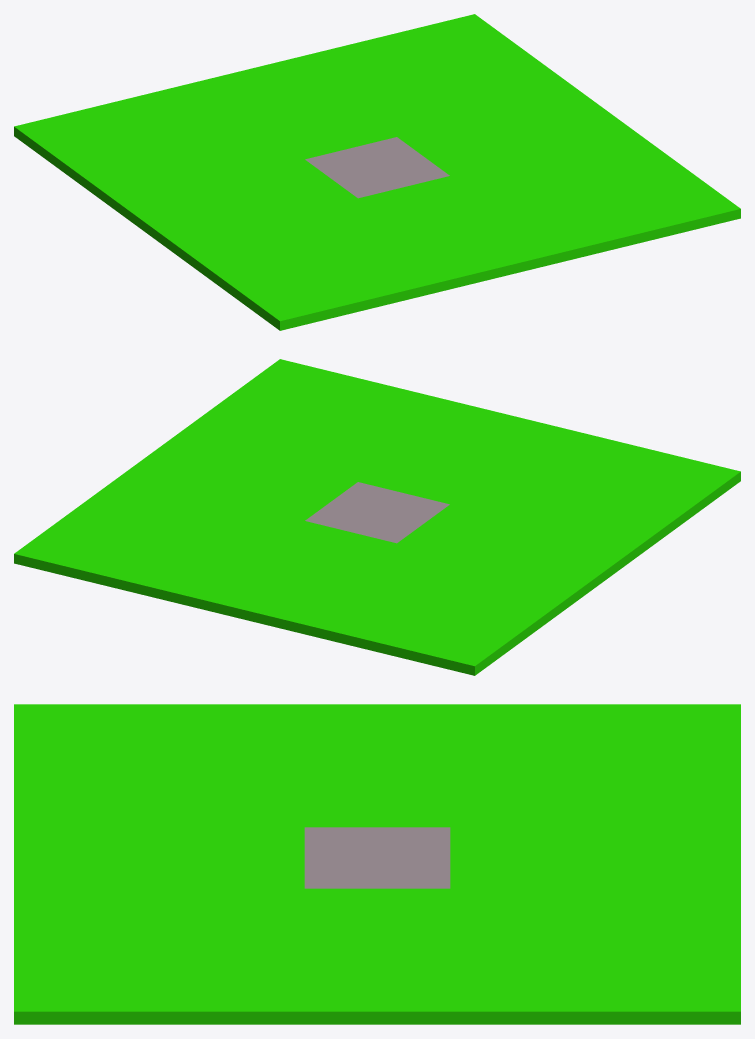
File: TestLevel.fbx
The picture shows the model from 3 angles, top to bottom: view 1: azimuth 30°, elevation 25°; view 2: azimuth 150°, elevation 25°; view 3: azimuth 270°, elevation 25°; orthographic projection. The views are drawn at different scales.
Visible parts, largest first — view 1: Environment, Arena; view 2: Environment, Arena; view 3: Environment, Arena.
Part boxes in pixels (box(x1,y1,x2,y2)): Environment: box(14, 14, 740, 330); Arena: box(305, 137, 449, 198); Environment: box(14, 359, 740, 675); Arena: box(305, 482, 449, 543); Environment: box(14, 704, 740, 1024); Arena: box(304, 827, 450, 888).
Bounding box in the file's own units: 50 × 1 × 50.
